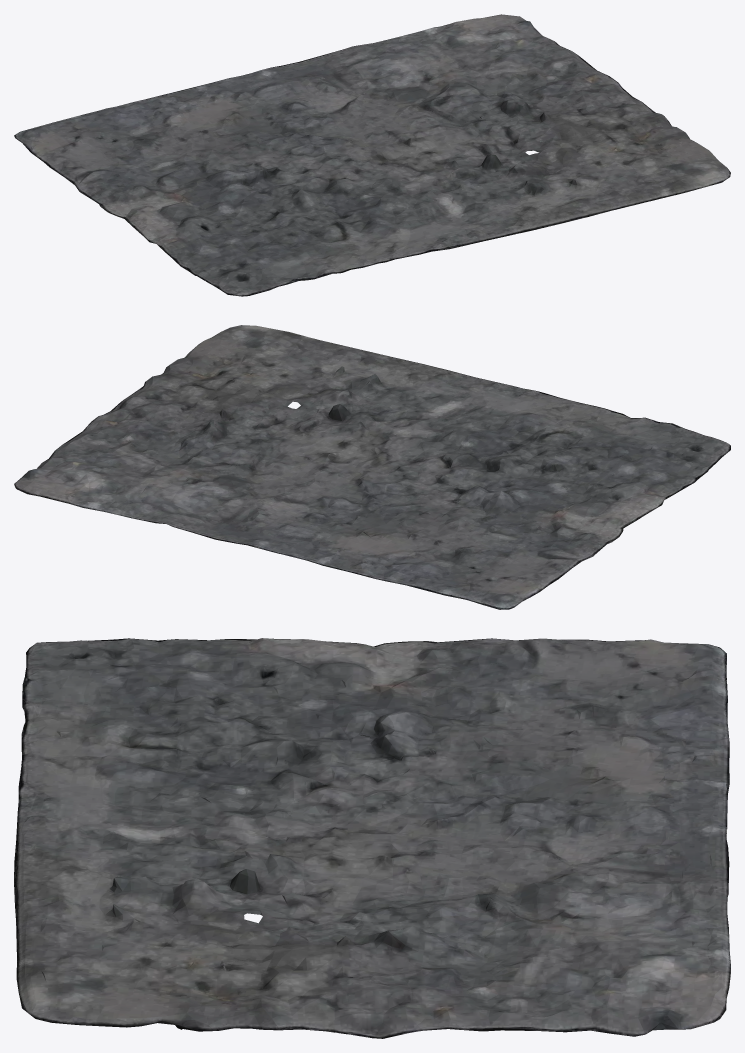
File: 51efde6a-7180-4a06-897c-2cd9be565146.glb
3 renders of one model, top to bottom at view 1: azimuth 30°, elevation 25°; view 2: azimuth 150°, elevation 25°; view 3: azimuth 270°, elevation 25°, orthographic. The views are drawn at different scales.
Visible parts, largest first — view 1: world; view 2: world; view 3: world.
Boxes of the visible parts, x1=… form: world: x1=14, y1=14, x2=730, y2=296; world: x1=14, y1=325, x2=730, y2=609; world: x1=14, y1=638, x2=730, y2=1038.
Size of the model in its own units: 0.9978 by 0.0392 by 0.7738.
Materials: 1 (1 with a texture image).
